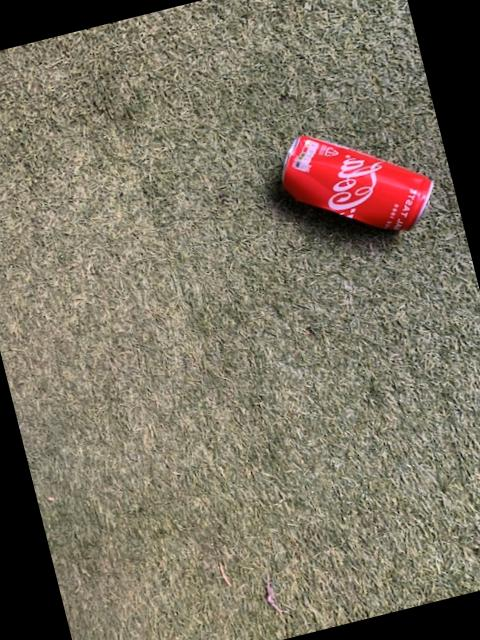metal: (282, 138, 432, 231)
